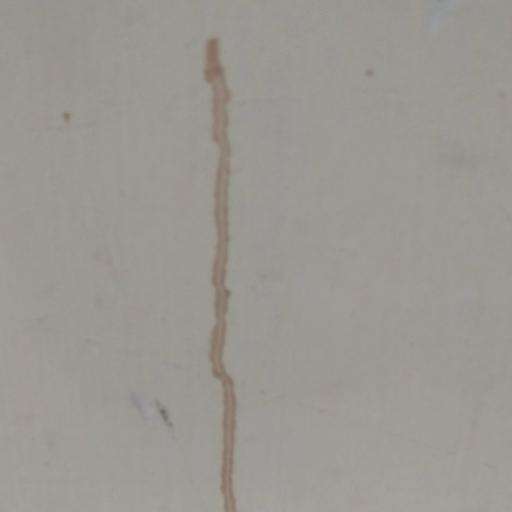stain: (180, 26, 256, 512), (124, 386, 197, 436), (359, 56, 389, 86), (53, 101, 81, 133)
